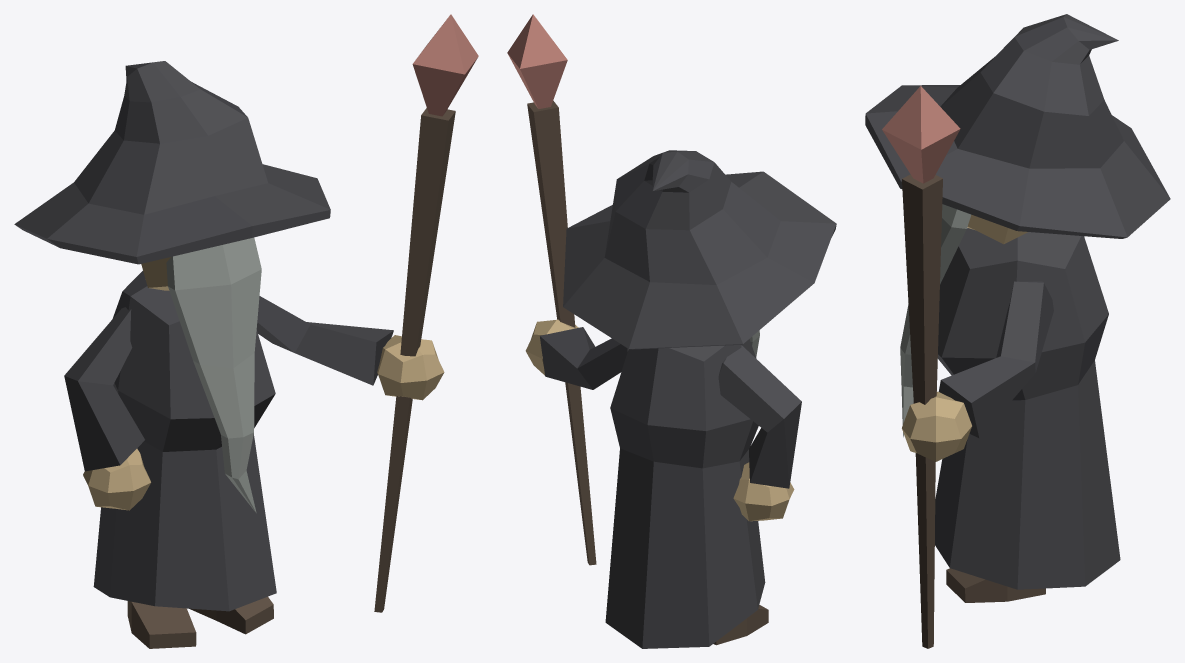
File: wizard.glb
3 renders of one model, left to right at view 1: azimuth 30°, elevation 25°; view 2: azimuth 150°, elevation 25°; view 3: azimuth 270°, elevation 25°, orthographic. The views are drawn at different scales.
Visible parts, largest first — view 1: Cube.002; view 2: Cube.002; view 3: Cube.002.
Part boxes in pixels (x1,y1,x2,y2): Cube.002: (14,14,478,648); Cube.002: (507,14,836,648); Cube.002: (865,14,1170,648).
Size of the model in its own units: 1.45 by 2.1 by 0.9773.
1 material, 1 textured.
